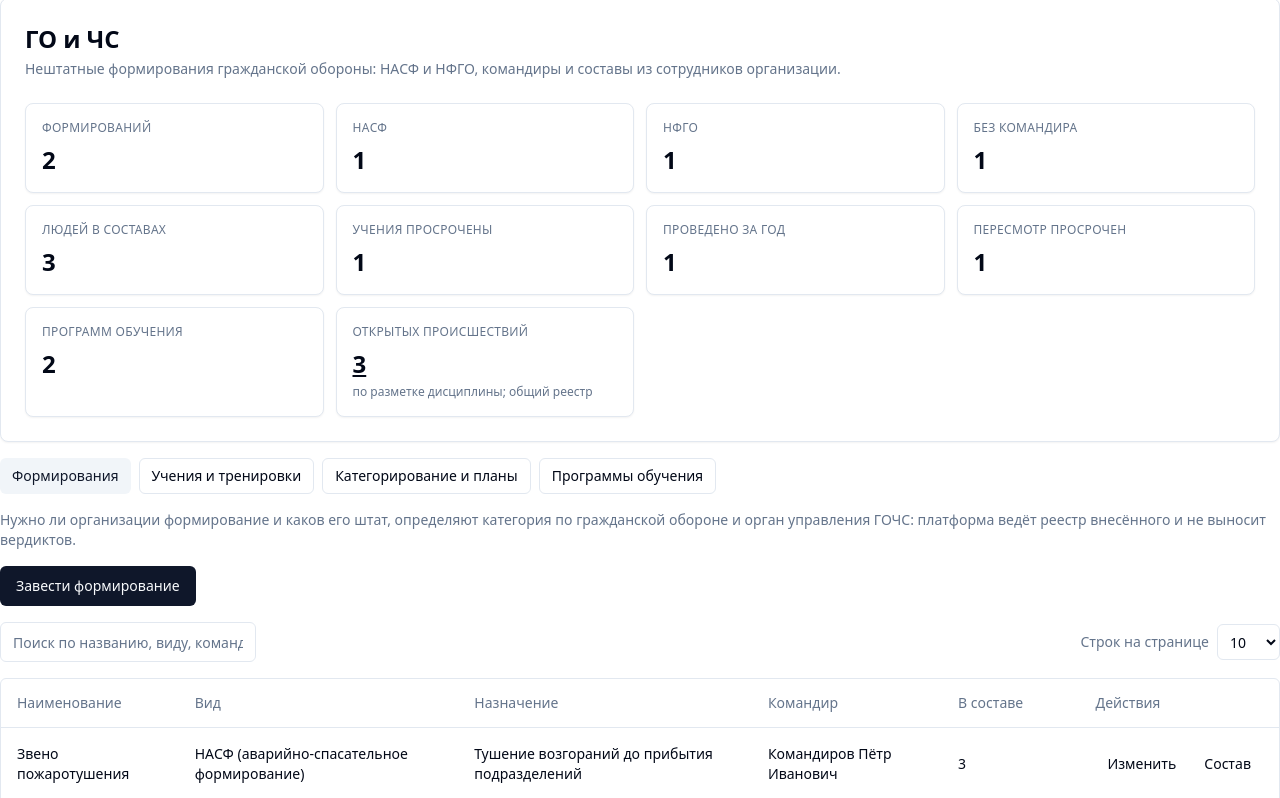
Scenario: CivilDefensePage › формирование заводится с экрана, а не только через API (срез-109)
This screenshot has width=1280, height=798.
Click the button "Завести формирование": (98, 586) [0,566,196,606]
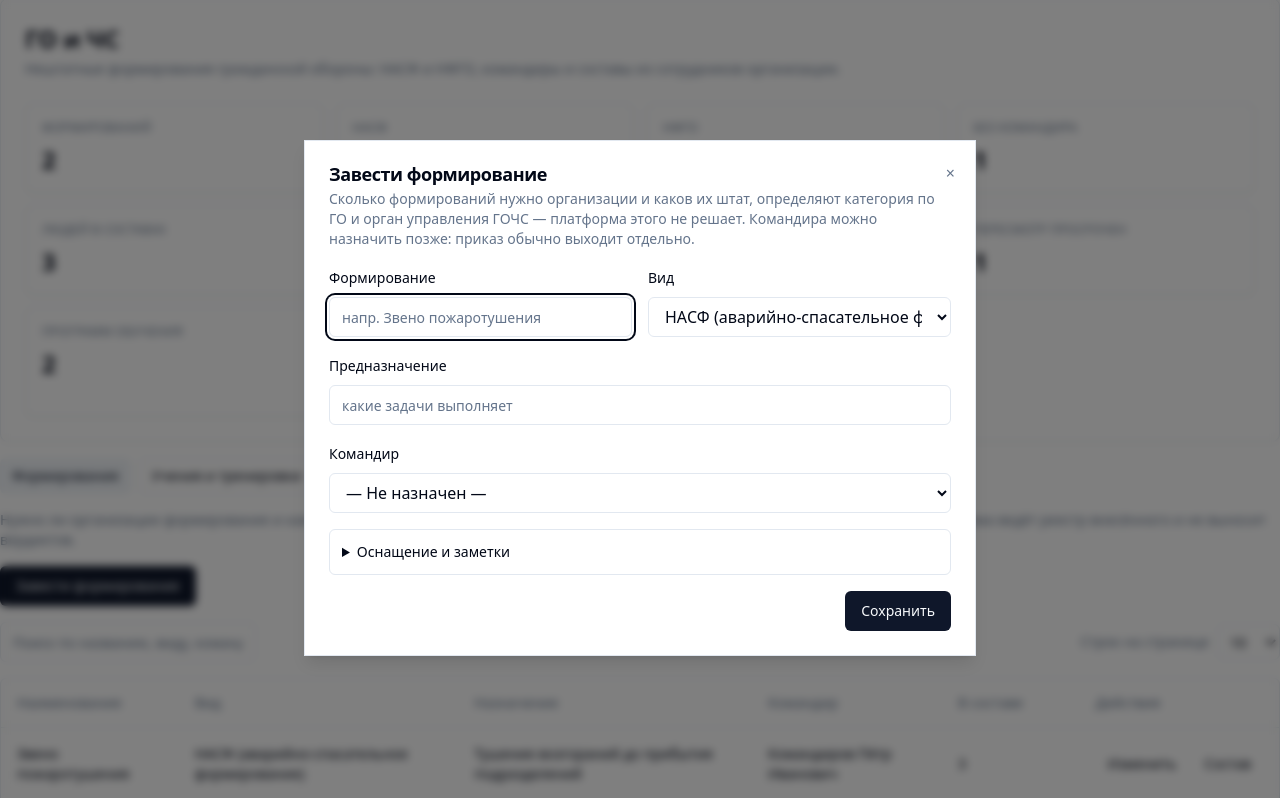
In the field labelled "Формирование": (480, 317) [329,297,632,337], type "Звено связи"
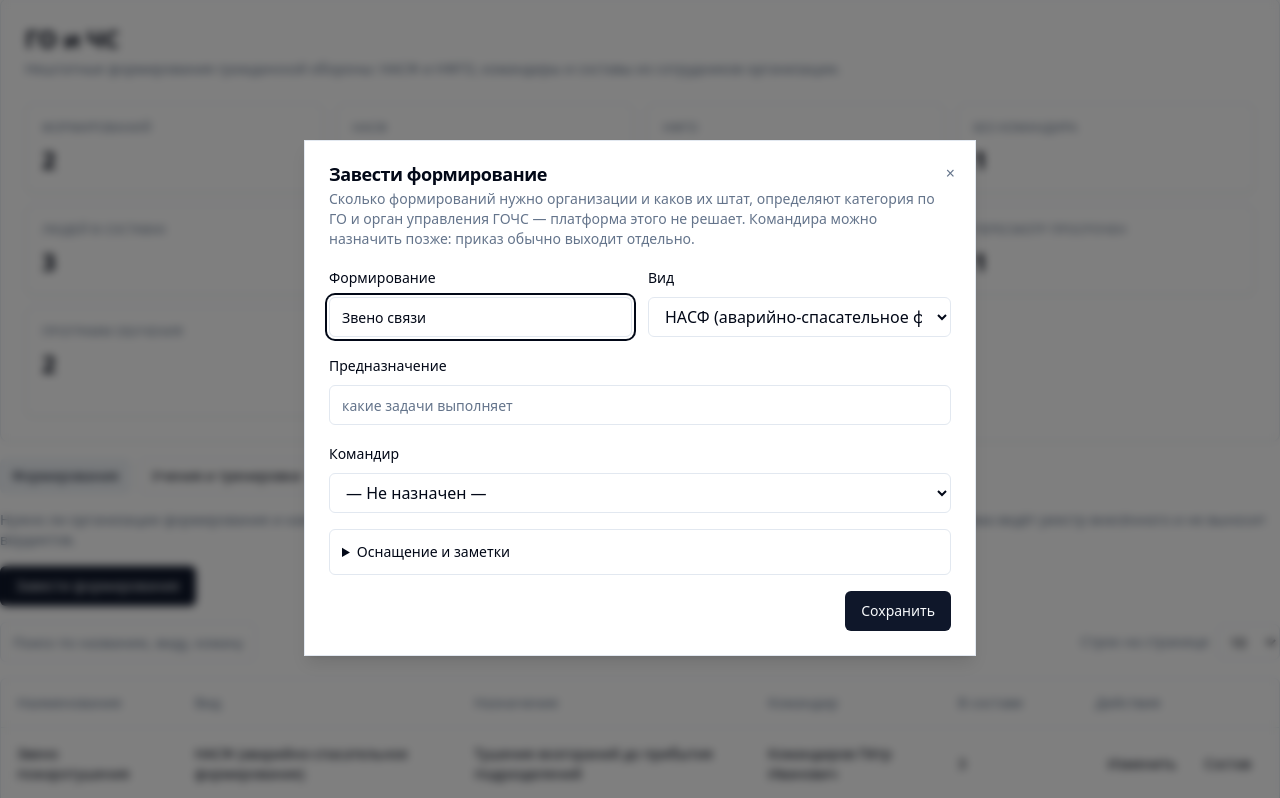
Select "НФГО (формирование по обеспечению ГО)" in the dropdown labelled "Вид": (800, 317) [648,297,951,337]
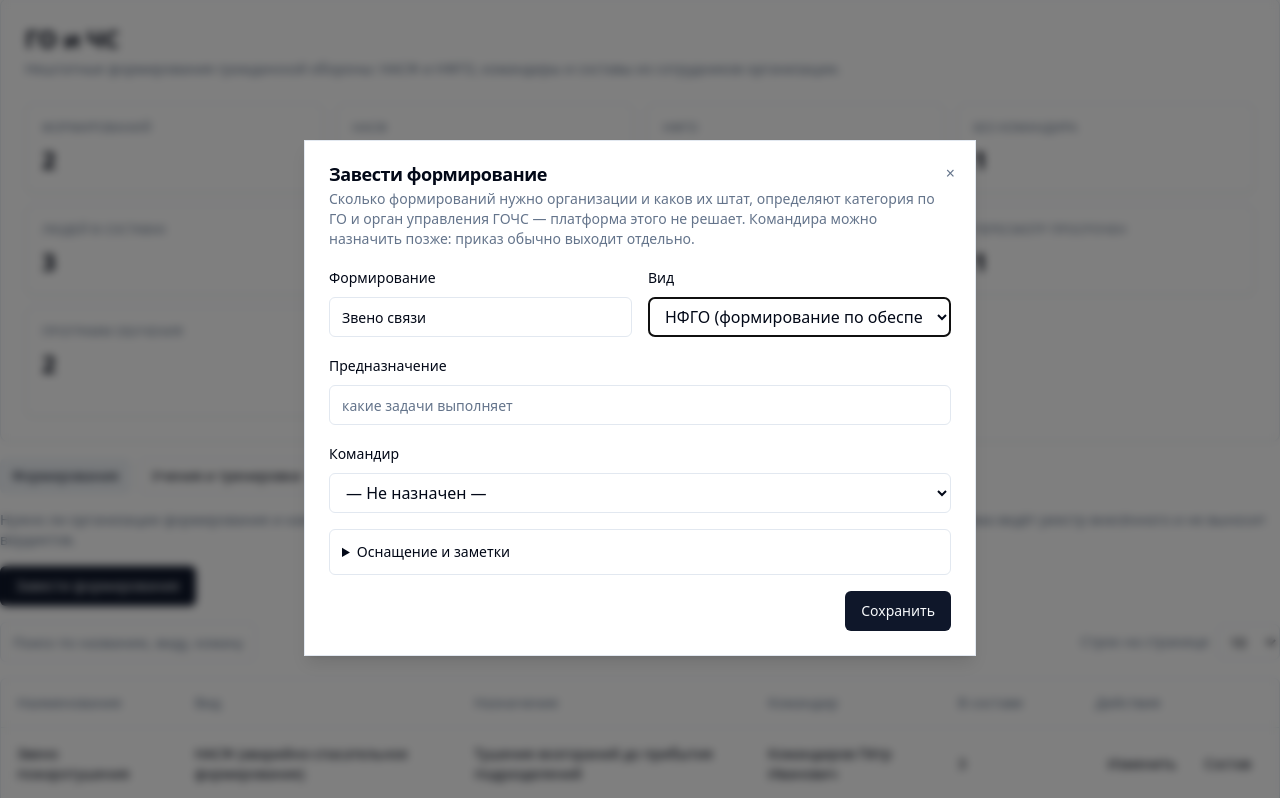
Select "Иванов Иван Иванович" in the dropdown labelled "Командир": (640, 493) [329,473,951,513]
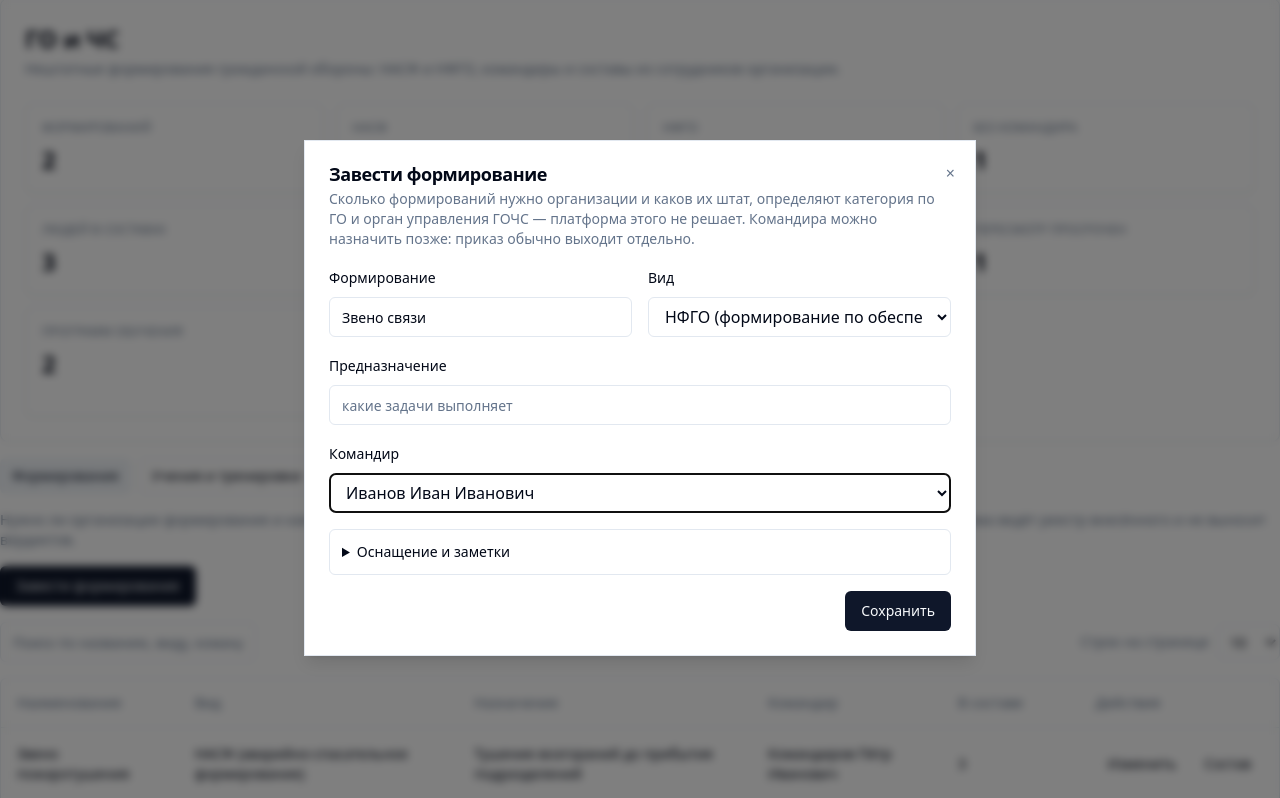
Click the button "Сохранить": (898, 611) [845,591,951,631]
(page scrolled)
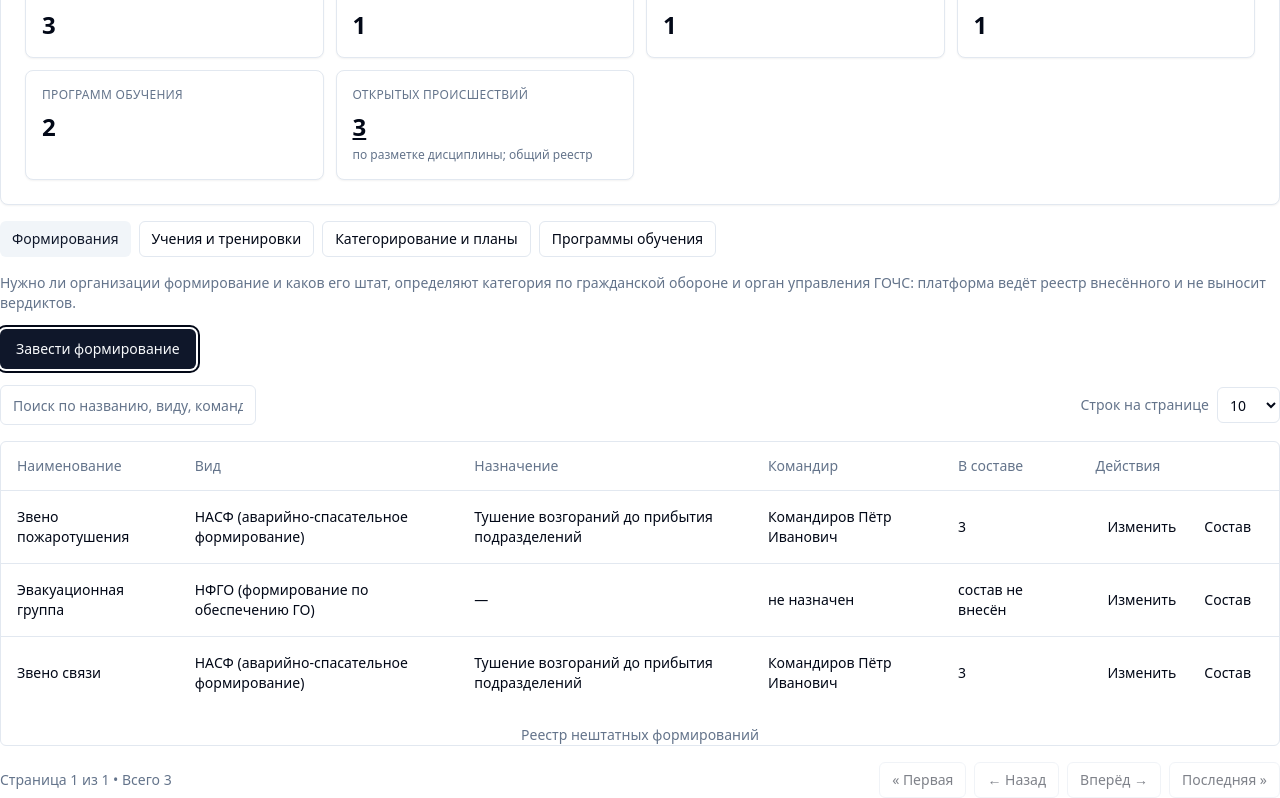
Check: the text "Звено связи" is shown, box [1,636,179,708]
